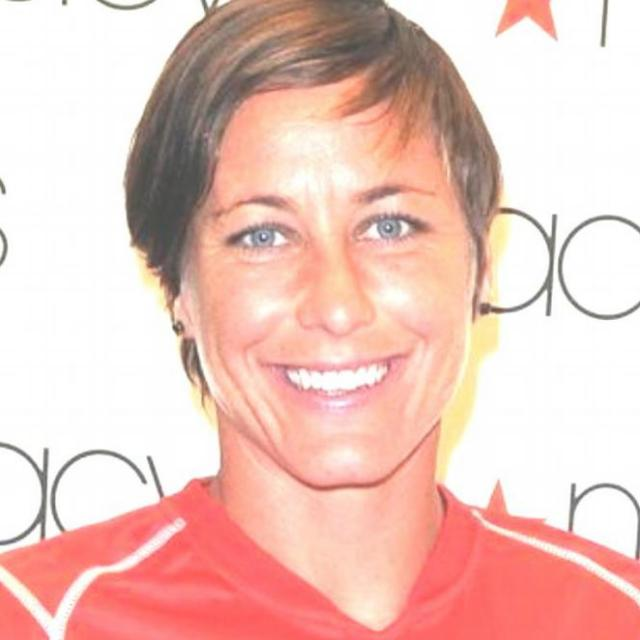live: (158, 72, 507, 494)
